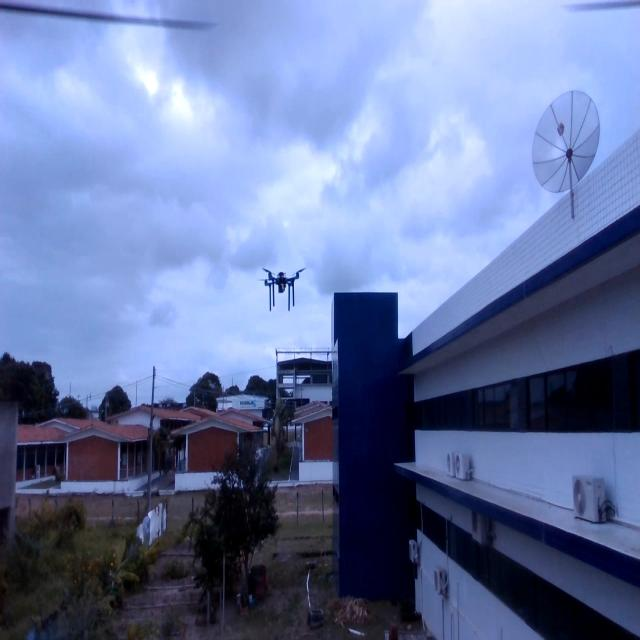-uav-: (257, 258, 310, 314)
